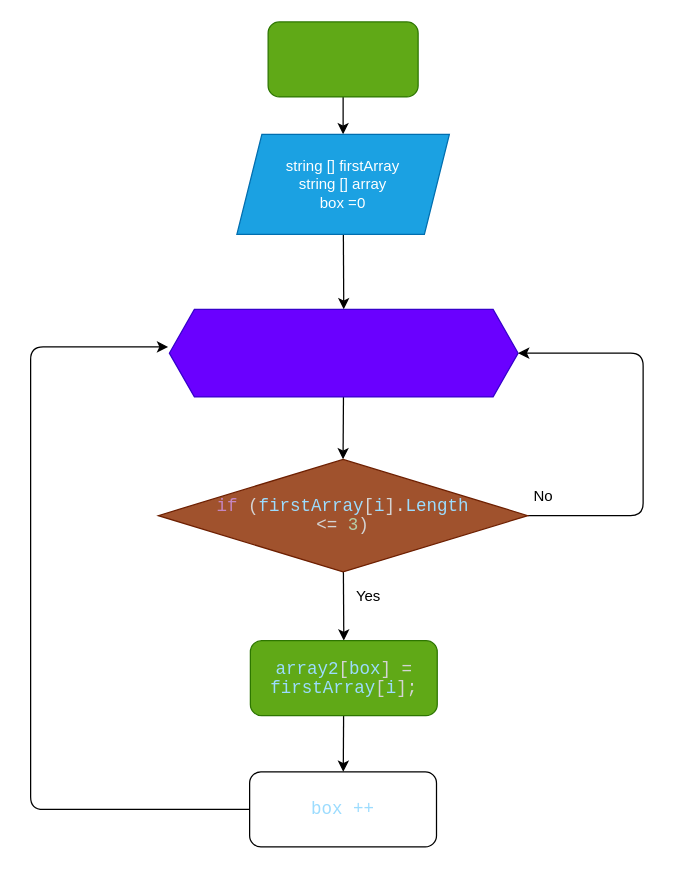
Image size: 675x869. Some labels were removed from this diagram. Here are the shapes that lost their labels. From the top down, the centre of each, then its label:
[342,59]: SecondArrayFull
[343,352]: for ( int i = 0 ; i < firstArray . Length ; i ++)
